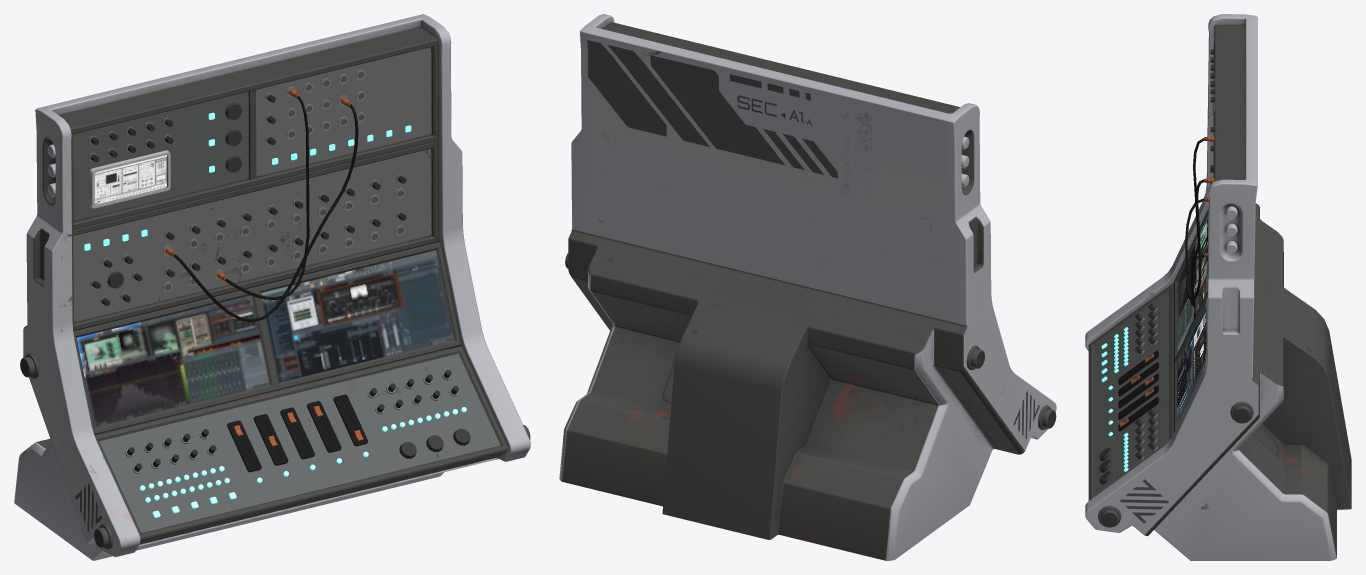
Rendered from sci-fi_synth_machine.glb.
3 views of the same model, side by side, from view 1: azimuth 30°, elevation 25°; view 2: azimuth 150°, elevation 25°; view 3: azimuth 270°, elevation 25° (orthographic). The views are drawn at different scales.
Visible parts, largest first — view 1: Object_3, Object_4, Object_2; view 2: Object_4, Object_3; view 3: Object_4, Object_3, Object_2.
Part boxes in pixels (left/top/right/bottom): Object_3: left=59, top=27, right=508, bottom=544; Object_4: left=14, top=14, right=530, bottom=560; Object_2: left=84, top=69, right=470, bottom=517; Object_4: left=559, top=14, right=1056, bottom=560; Object_3: left=602, top=22, right=960, bottom=113; Object_4: left=1085, top=14, right=1351, bottom=560; Object_3: left=1088, top=25, right=1244, bottom=500; Object_2: left=1098, top=49, right=1214, bottom=484.
Size of the model in its own units: 1.09 by 1.06 by 0.6567.
2 materials, 2 textured.
